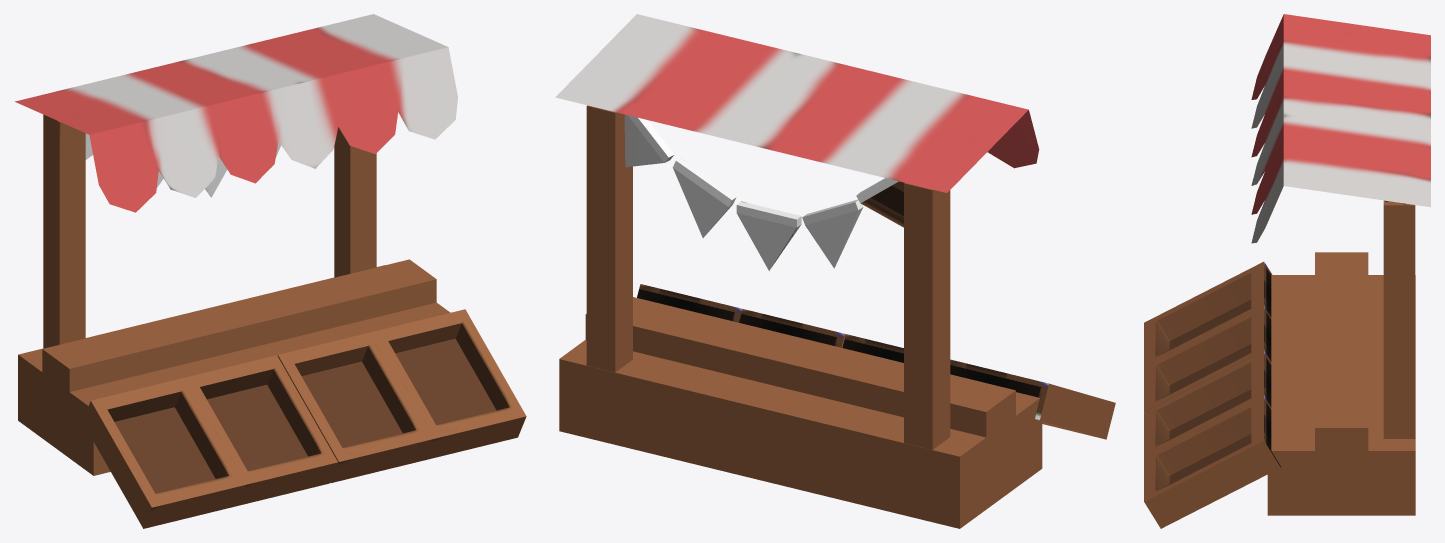
The model's file is festivalstall.fbx.
3 views of the same model, side by side, from view 1: azimuth 30°, elevation 25°; view 2: azimuth 150°, elevation 25°; view 3: azimuth 270°, elevation 25° (orthographic). The views are drawn at different scales.
Parts seen in each view (by area): view 1: Cube.001; view 2: Cube.001; view 3: Cube.001.
Boxes of the visible parts, left/top/right/bottom form: Cube.001: left=15, top=14, right=526, bottom=528; Cube.001: left=555, top=14, right=1115, bottom=528; Cube.001: left=1144, top=14, right=1430, bottom=528.
Bounding box in the file's own units: 573 × 506 × 387.
